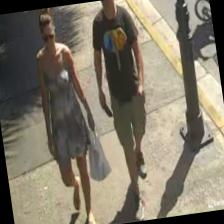person: (85, 0, 164, 221), (29, 4, 108, 224)
